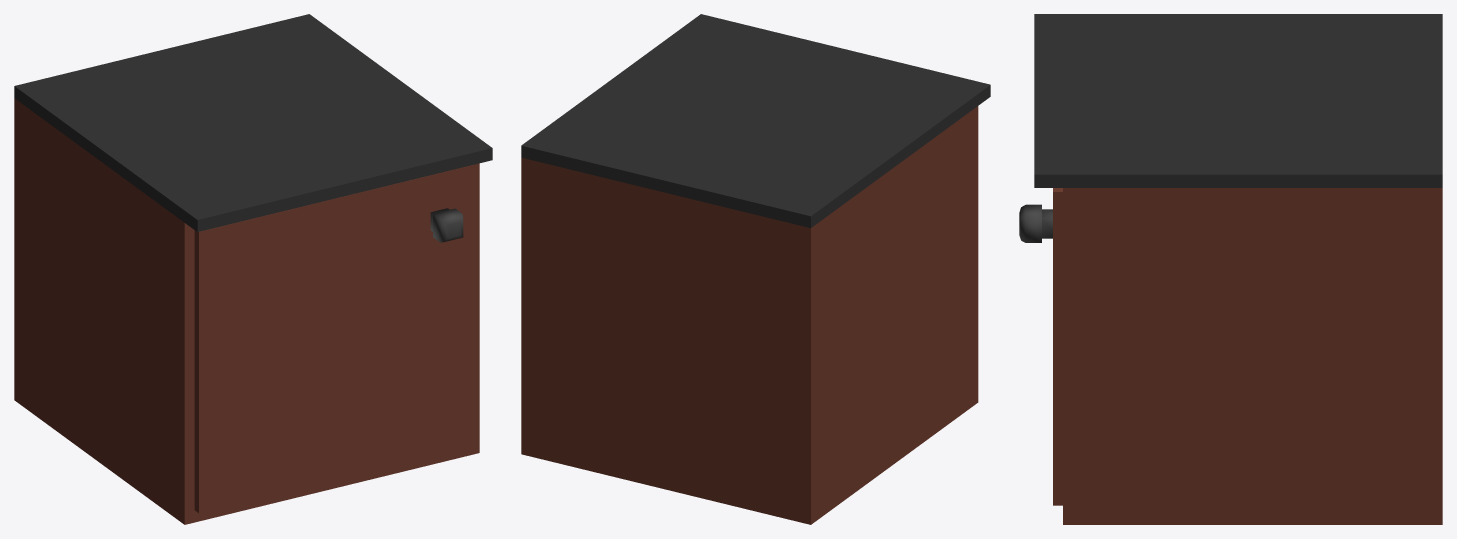
File: Small_Shelf_1.fbx
3 views of the same model, side by side, from view 1: azimuth 30°, elevation 25°; view 2: azimuth 150°, elevation 25°; view 3: azimuth 270°, elevation 25° (orthographic). The views are drawn at different scales.
Visible parts, largest first — view 1: ShelfSmall, Cube.008; view 2: ShelfSmall; view 3: ShelfSmall, Cube.008.
Boxes of the visible parts, x1,y1,x2,y2 form: ShelfSmall: (14, 14, 492, 524); Cube.008: (194, 165, 474, 513); ShelfSmall: (521, 14, 990, 524); ShelfSmall: (1034, 14, 1442, 524); Cube.008: (1019, 188, 1062, 505).
Bounding box in the file's own units: 200 × 204 × 223.
